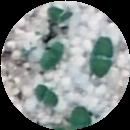Basil: (35, 43, 61, 79), (92, 36, 110, 76), (71, 107, 98, 130), (48, 6, 81, 23), (34, 84, 51, 105)
